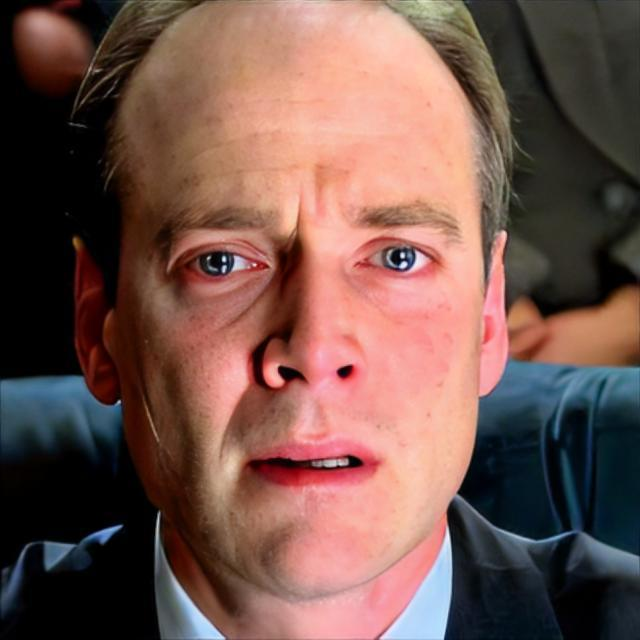fear: (108, 0, 486, 604)
